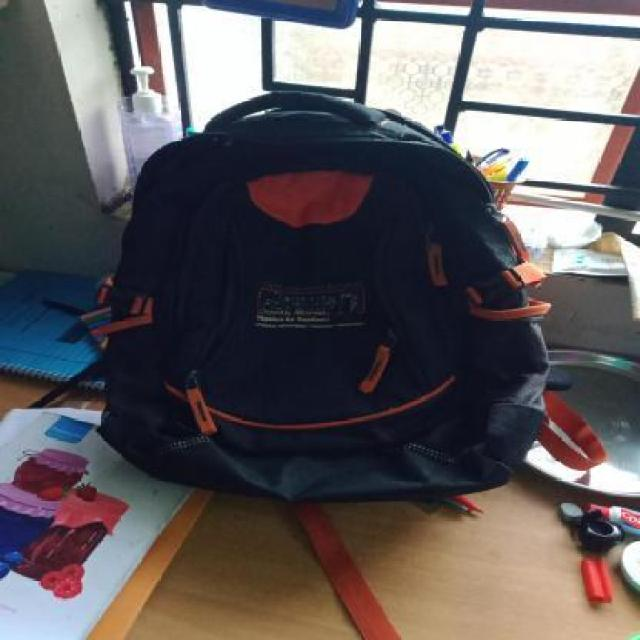backpack: (84, 85, 556, 509)
